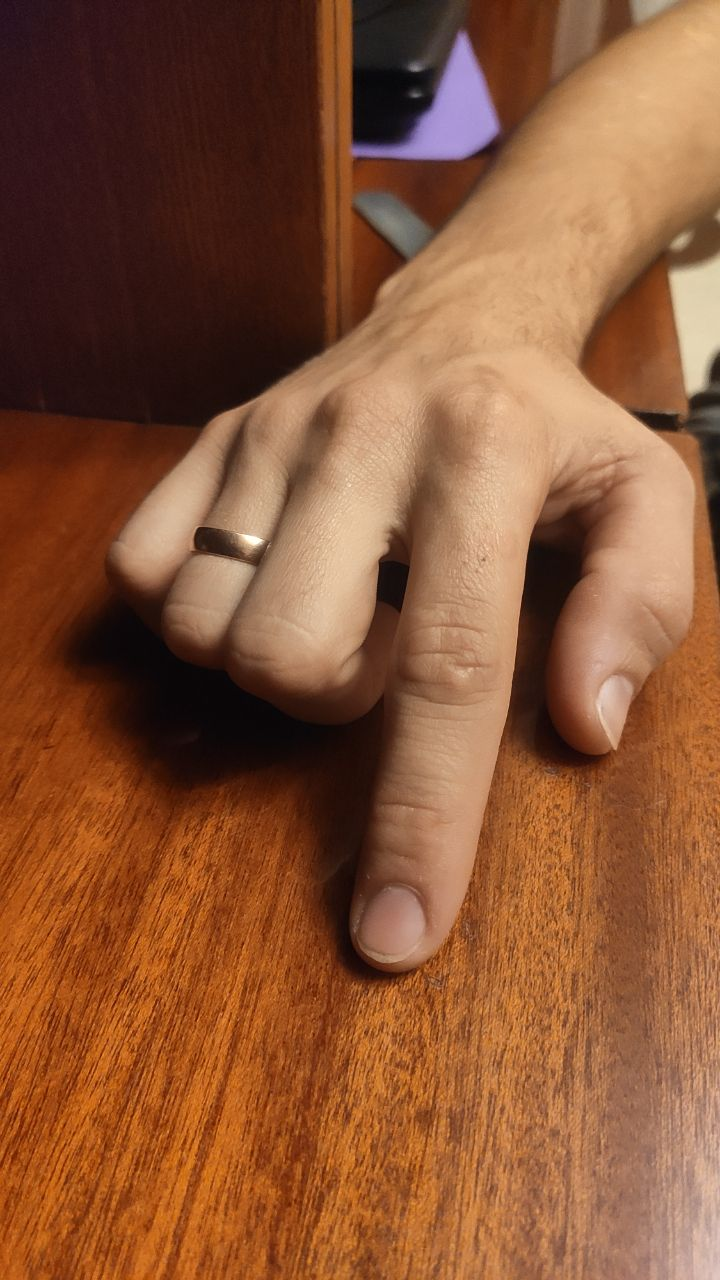finger: (347, 843, 459, 967)
